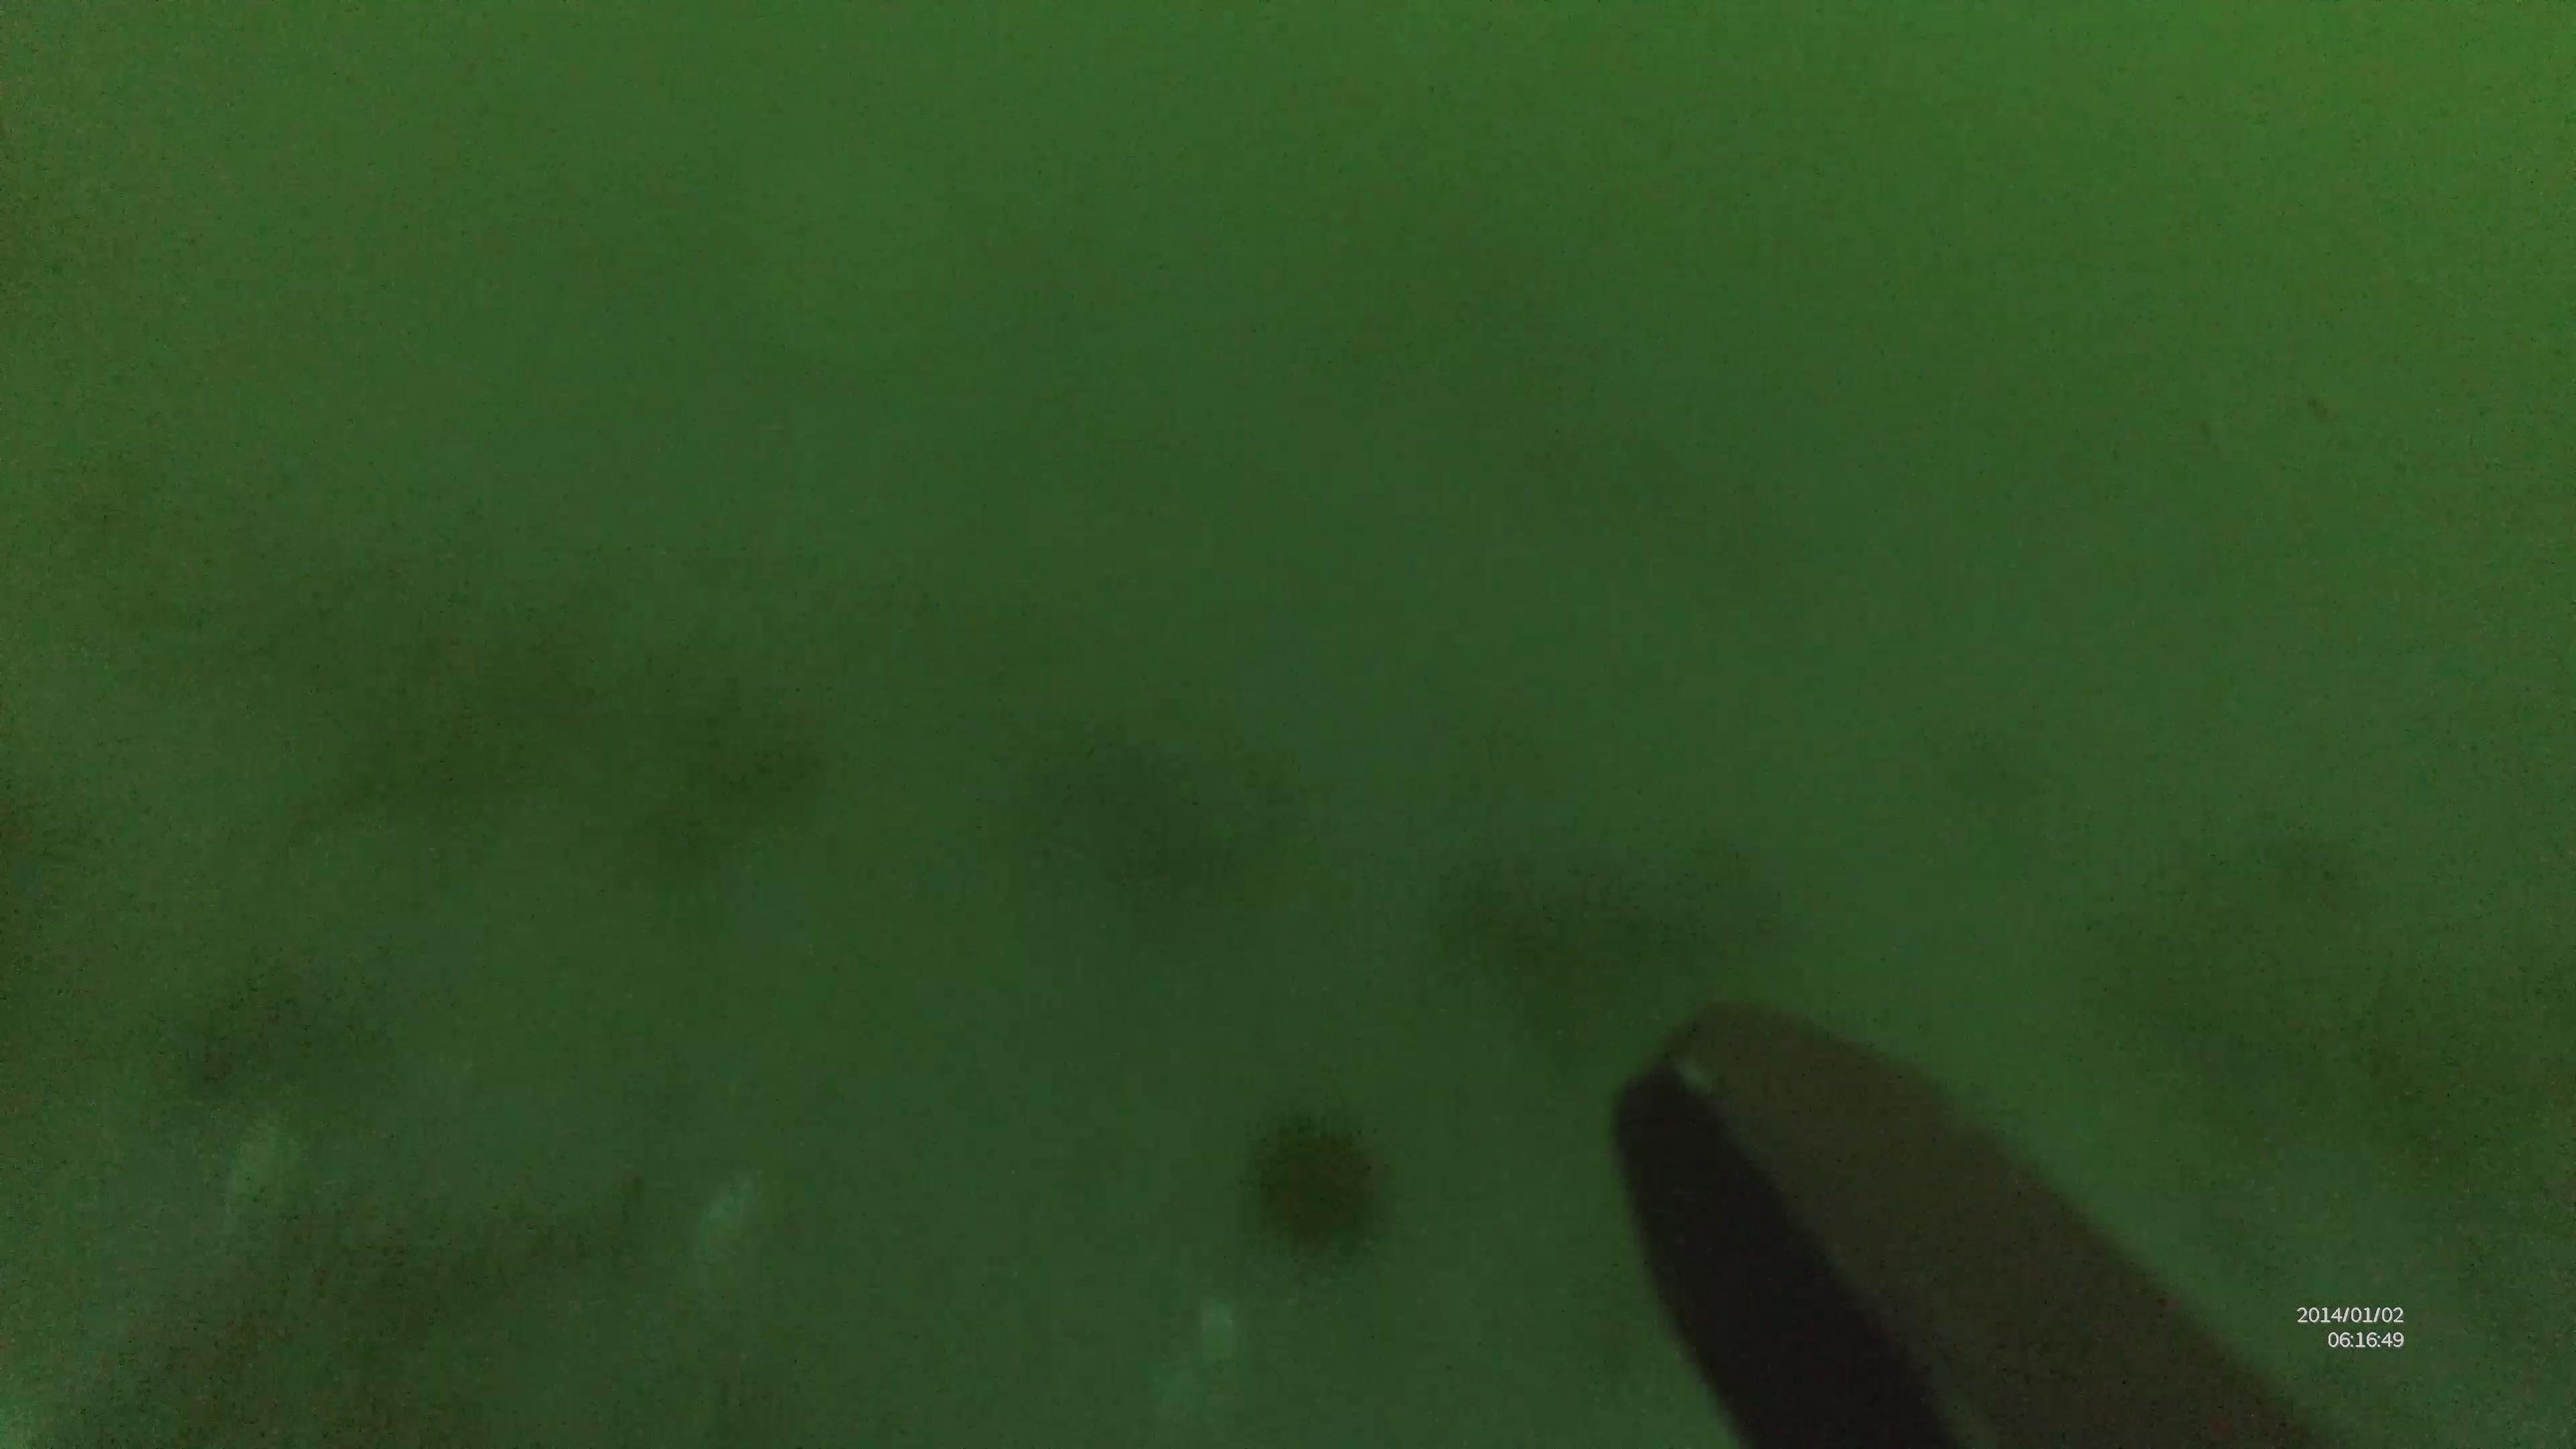echinus: (1242, 1111, 1391, 1256)
